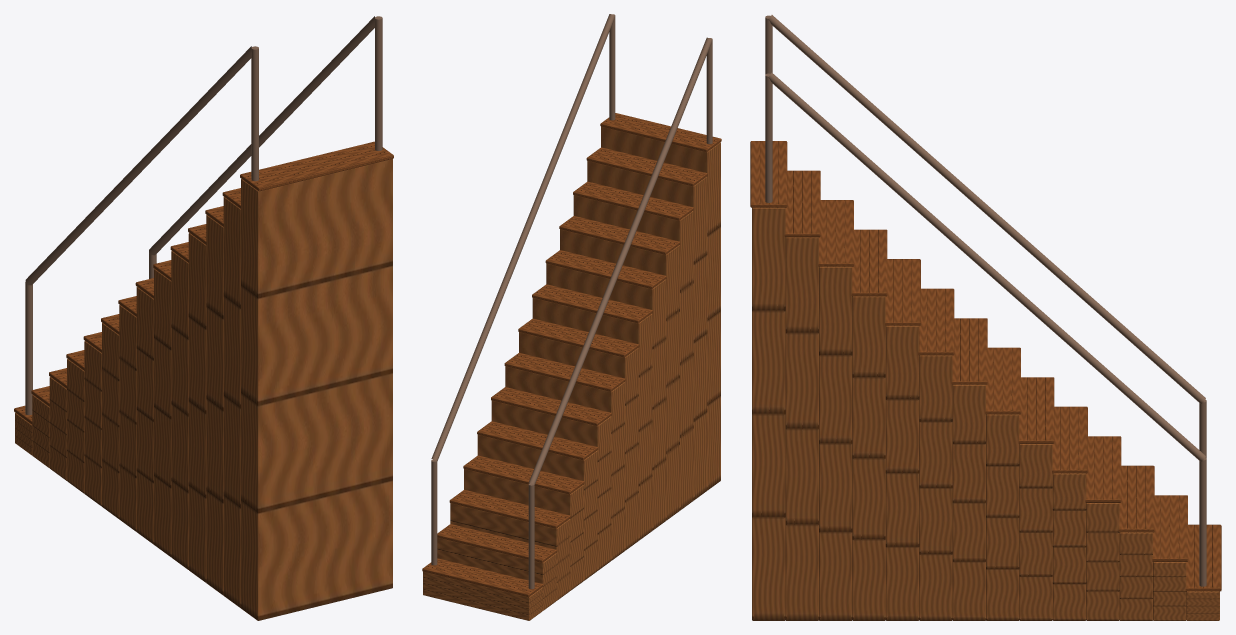
Rendered from paranormal-investigation-house-house-staircase-b3f746ca.glb.
The picture shows the model from 3 angles, left to right: view 1: azimuth 30°, elevation 25°; view 2: azimuth 150°, elevation 25°; view 3: azimuth 270°, elevation 25°; orthographic projection. The views are drawn at different scales.
Parts seen in each view (by area): view 1: house-staircase; view 2: house-staircase; view 3: house-staircase.
Boxes of the visible parts, bbox=[...] form: house-staircase: bbox=[14, 16, 393, 620]; house-staircase: bbox=[422, 14, 721, 620]; house-staircase: bbox=[750, 15, 1221, 620].
Bounding box in the file's own units: 0.9001 × 3.61 × 2.82.
Materials: 3 (2 with a texture image).
